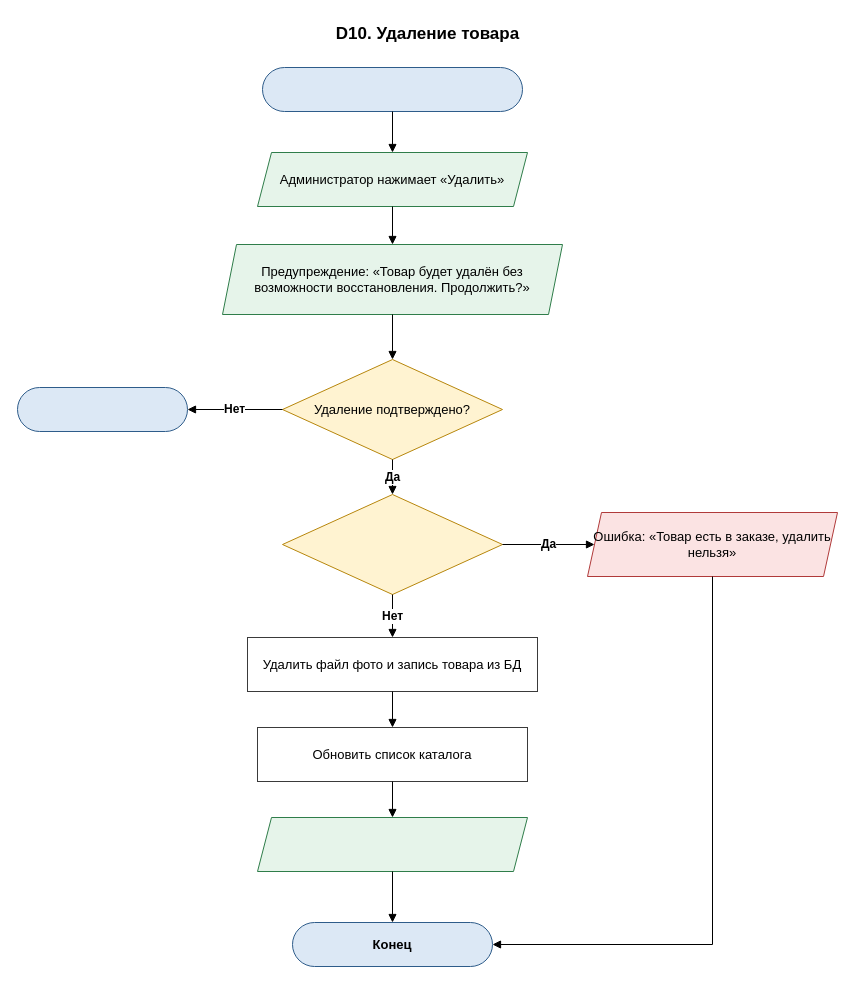
Some shapes in this 855 by 984 pixel diagram are drawn without their labels. Each missing label, with the box of its shape:
Конец (отмена): (16, 386, 188, 432)
Начало: товар выбран в каталоге: (262, 66, 522, 112)
Сообщение: «Товар удалён»: (256, 816, 528, 872)
Товар есть в заказах?: (282, 494, 502, 594)
